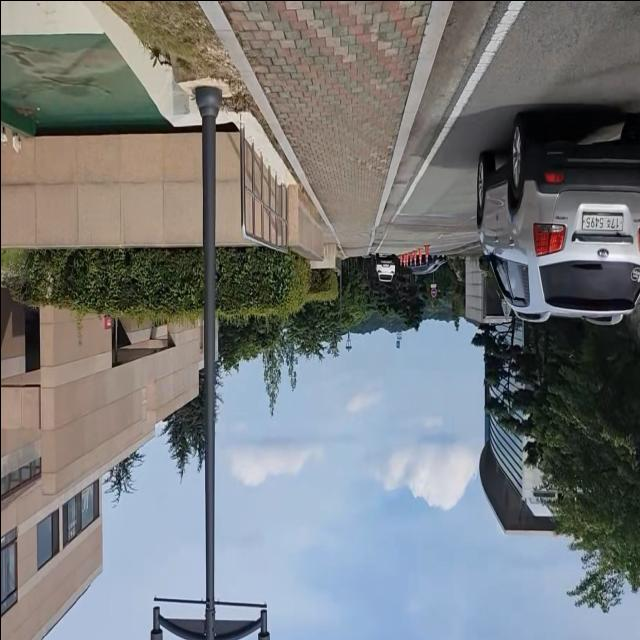obstacle: (141, 76, 280, 640), (466, 107, 640, 338), (366, 248, 397, 292)
road: (372, 0, 640, 257)
sidewalk: (189, 0, 451, 249)
